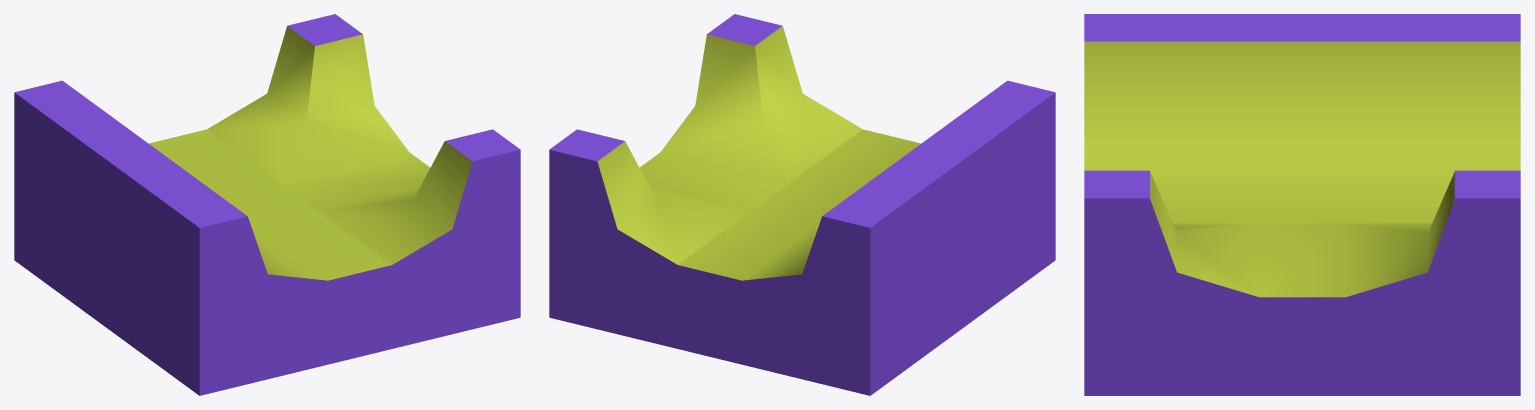
File: split-col.dae
The picture shows the model from 3 angles, left to right: view 1: azimuth 30°, elevation 25°; view 2: azimuth 150°, elevation 25°; view 3: azimuth 270°, elevation 25°; orthographic projection. The views are drawn at different scales.
Parts seen in each view (by area): view 1: split-col; view 2: split-col; view 3: split-col.
Boxes of the visible parts, x1,y1,x2,y2 form: split-col: [14, 14, 520, 395]; split-col: [549, 14, 1055, 395]; split-col: [1084, 14, 1520, 395].
Bounding box in the file's own units: 1 × 1 × 0.5.
